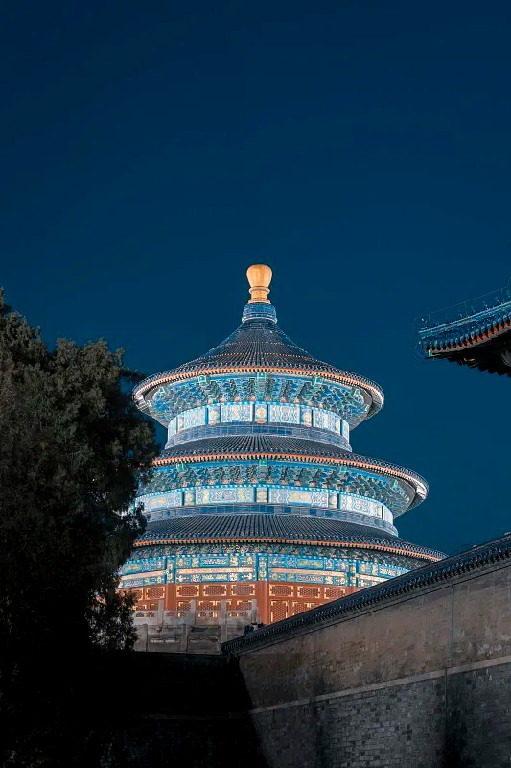Heaven: (77, 263, 447, 645)
